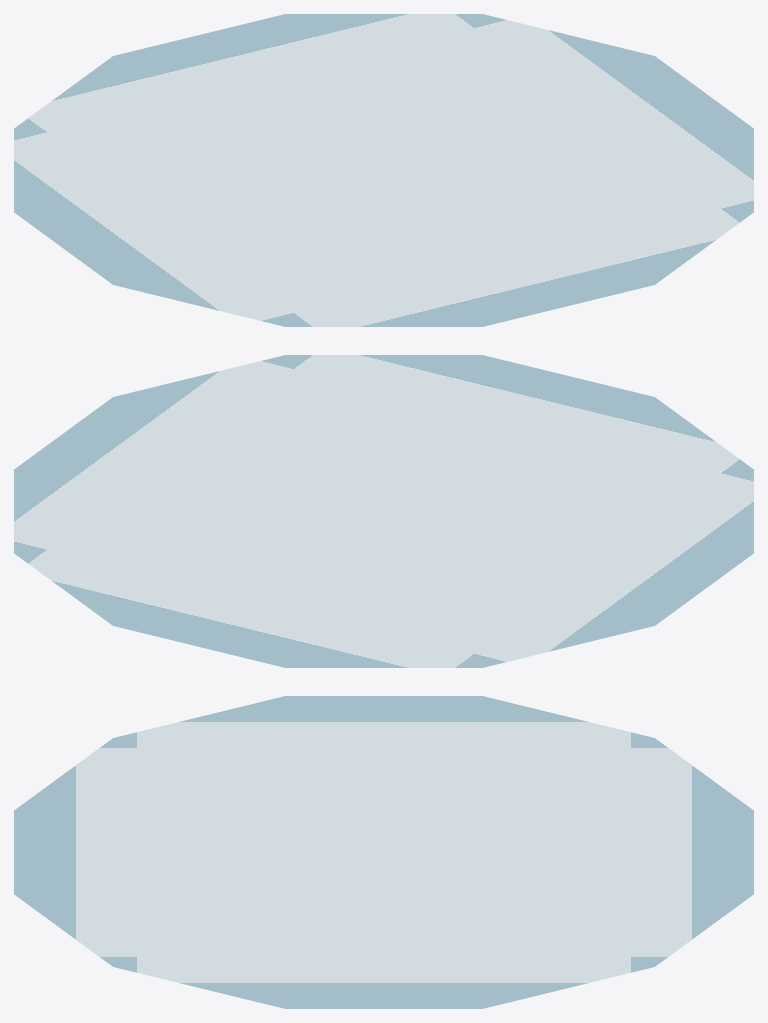
File: eventhorizon.fbx
3 views of the same model, one above another, from view 1: azimuth 30°, elevation 25°; view 2: azimuth 150°, elevation 25°; view 3: azimuth 270°, elevation 25° (orthographic).
Visible parts, largest first — view 1: circle; view 2: circle; view 3: circle.
Part boxes in pixels (left/top/right/bottom): circle: left=14, top=14, right=753, bottom=326; circle: left=14, top=355, right=753, bottom=667; circle: left=14, top=696, right=753, bottom=1008.
Bounding box in the file's own units: 75 × 0 × 75.
1 material, 1 textured.
